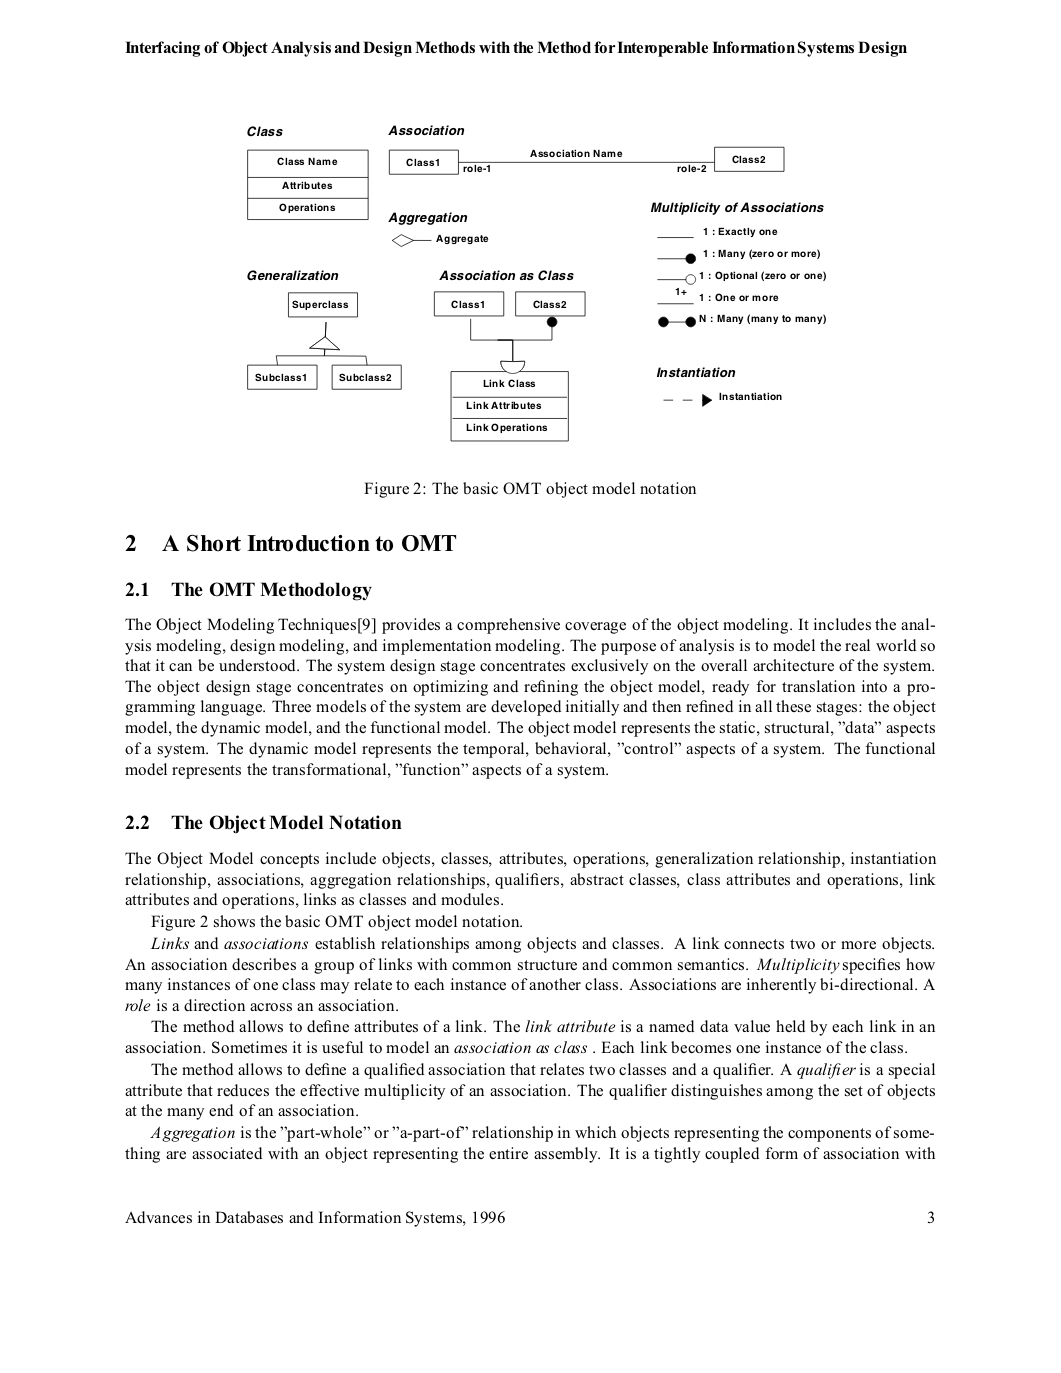figure: (247, 125, 825, 441)
